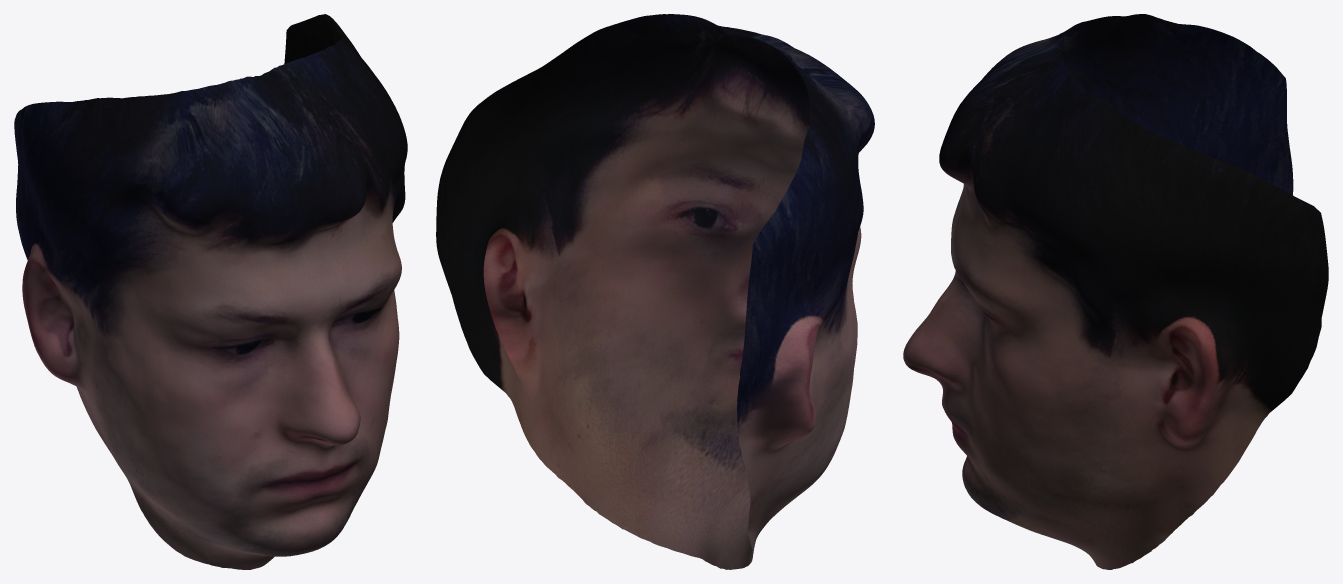
The model's file is headScan_standart.glb.
The picture shows the model from 3 angles, left to right: view 1: azimuth 30°, elevation 25°; view 2: azimuth 150°, elevation 25°; view 3: azimuth 270°, elevation 25°; orthographic projection. The views are drawn at different scales.
Parts seen in each view (by area): view 1: Node; view 2: Node; view 3: Node.
Boxes of the visible parts, x1,y1,x2,y2 form: Node: (14, 14, 407, 569); Node: (436, 14, 874, 569); Node: (903, 14, 1328, 569).
Bounding box in the file's own units: 184 × 268 × 201.
1 material, 1 textured.
